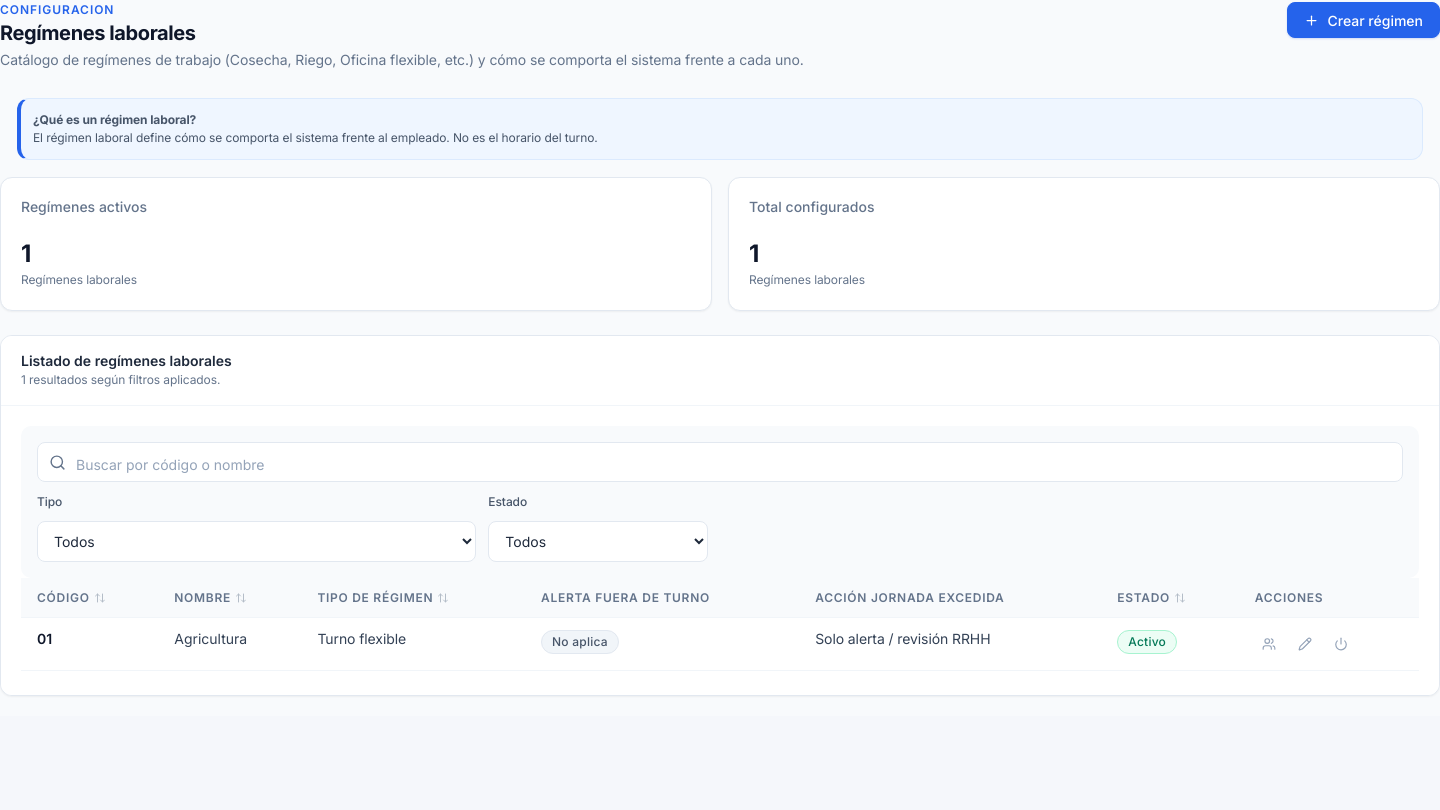
Scenario: WorkRegimesPage — modal Empleados asociados (Etapa 13J / 13J.1 / 13J.2) › por defecto pide sólo vigentes (status=current), no mezcla históricas sin avisar
The width and height of the screenshot is (1440, 810).
Expected: the text "Agricultura" is shown, [174,630,247,647]
Click the button named "Ver empleados asociados" at (1269, 644), box [1255,630,1283,658]
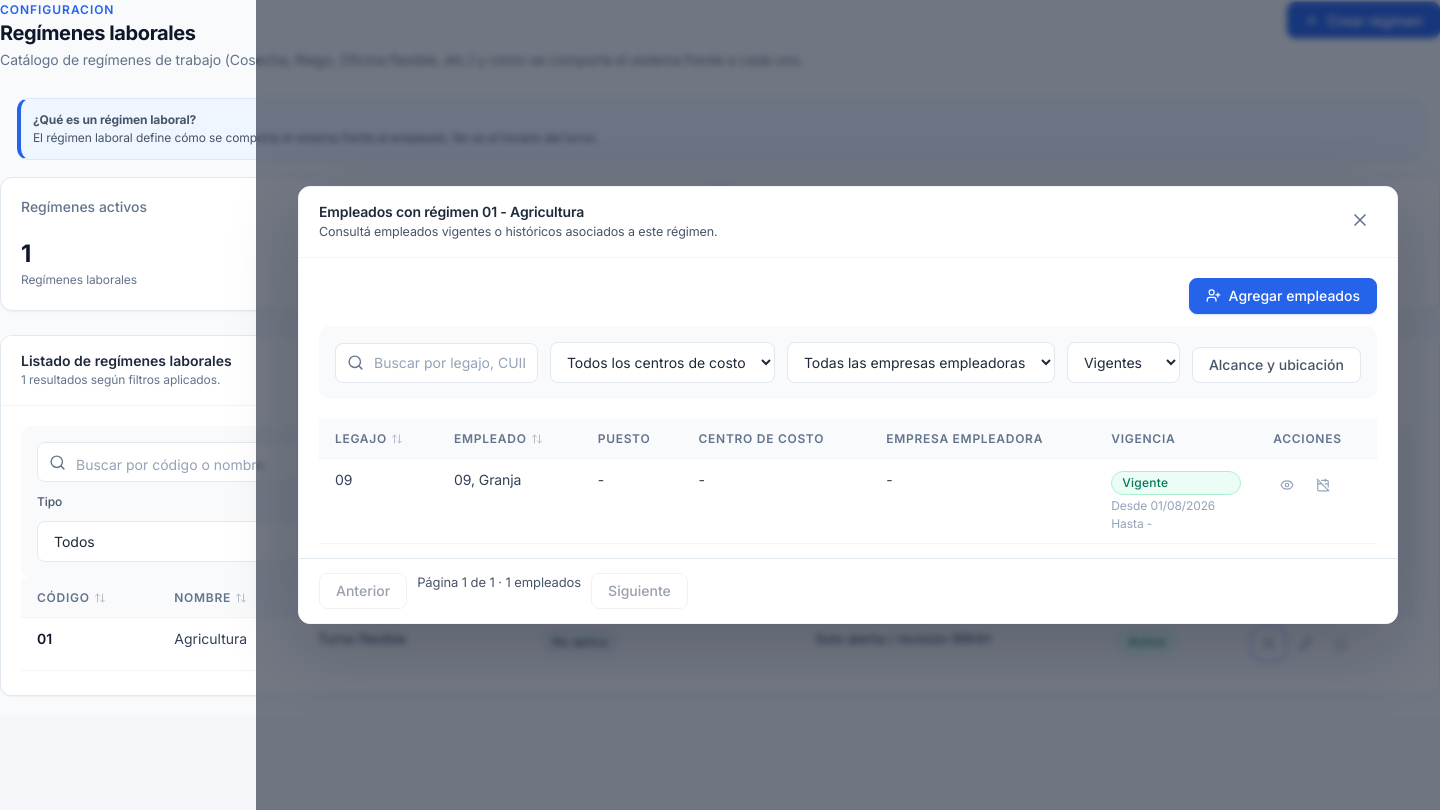
Result: the heading "Empleados con régimen 01 - Agricultura" is shown at [319,203,584,220]
Result: the dropdown named "Filtrar por vigencia" shows "Vigentes" at [1067,342,1180,383]
